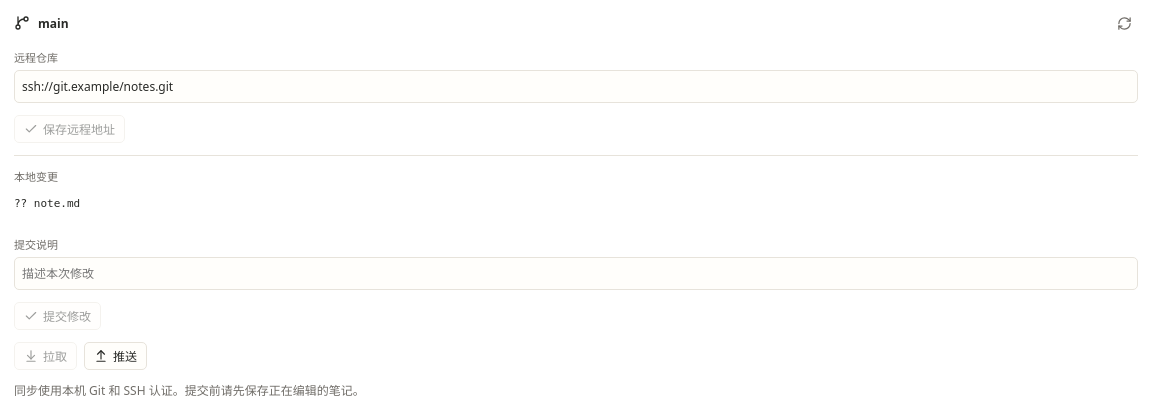
it: vault Git sync › shows status and runs an explicit commit
The width and height of the screenshot is (1152, 413).
In the field with test id "git-message": (576, 273) 14,256 -> 1138,290, type "Saved note"
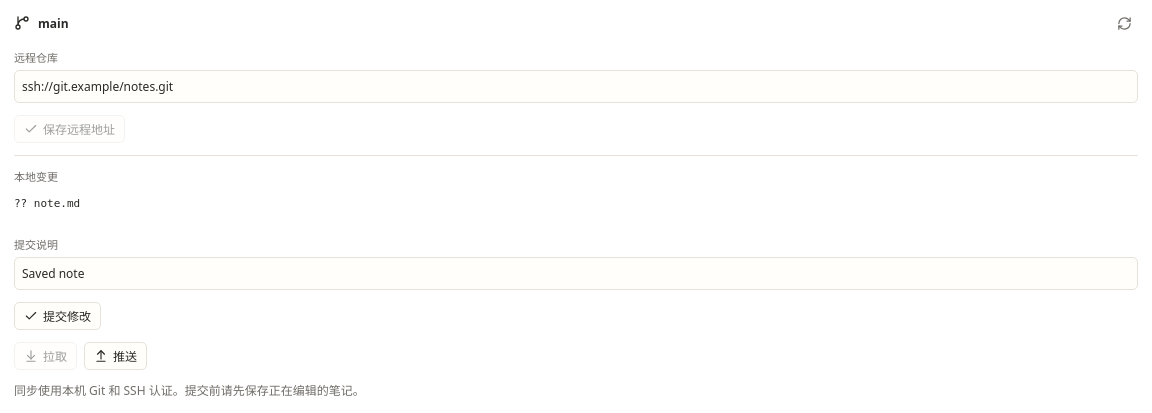
Click the button with test id "git-commit": click(58, 316) 14,302 -> 101,330
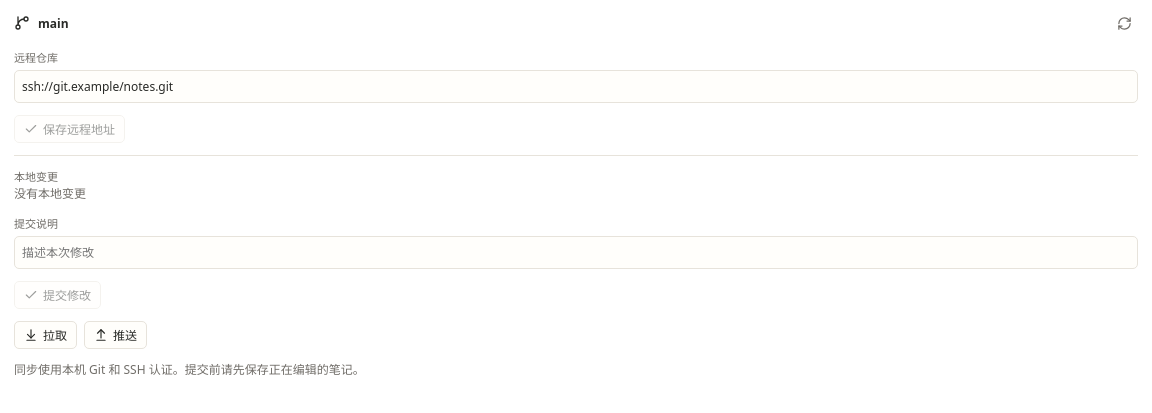
Expected: the text "?? note.md" is gone
